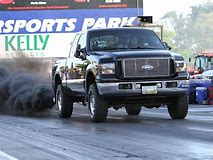smoke: (1, 56, 51, 117)
